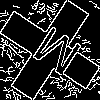M: (25, 25, 85, 86)
